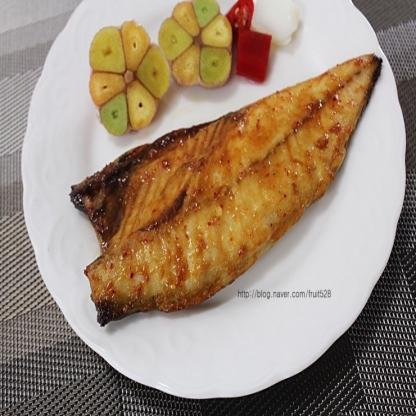Peixe: (70, 54, 393, 324)
